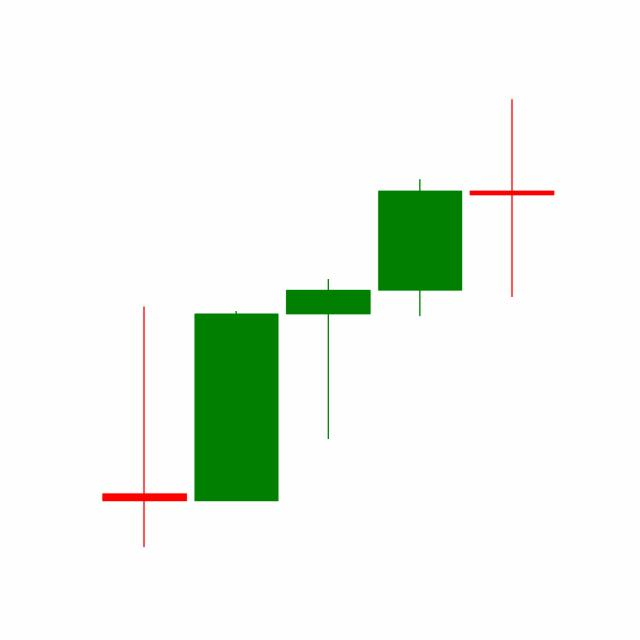Spinning Top: (464, 96, 558, 299)
